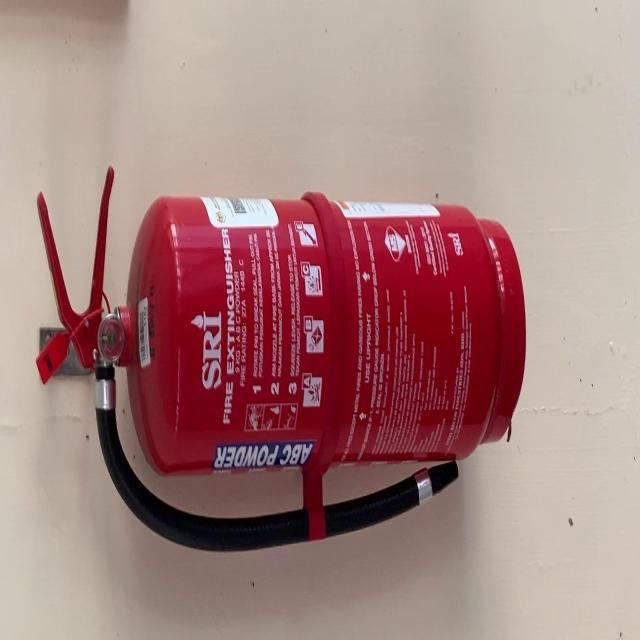fire_extinguisher: (31, 159, 530, 557)
